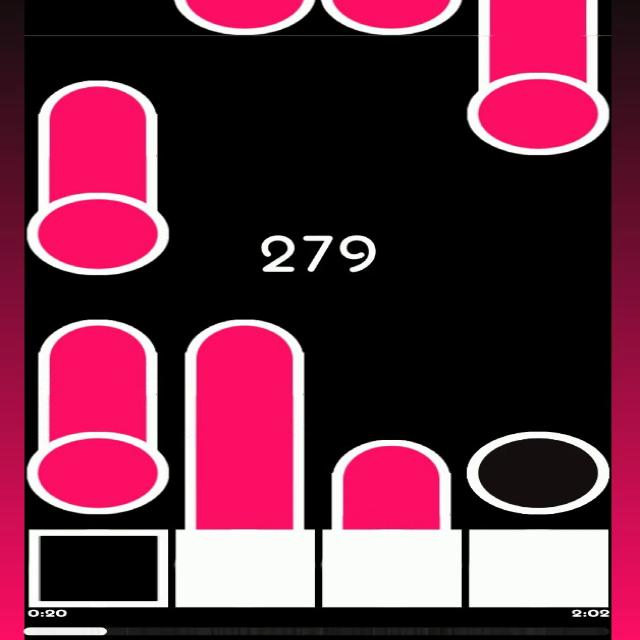end_hold: (34, 309, 160, 361), (35, 70, 162, 120), (176, 312, 304, 358), (331, 430, 452, 478)
note: (467, 430, 610, 516)
start_hold: (464, 56, 608, 156), (26, 177, 168, 275), (28, 416, 170, 514), (322, 0, 463, 36), (172, 0, 317, 35)
